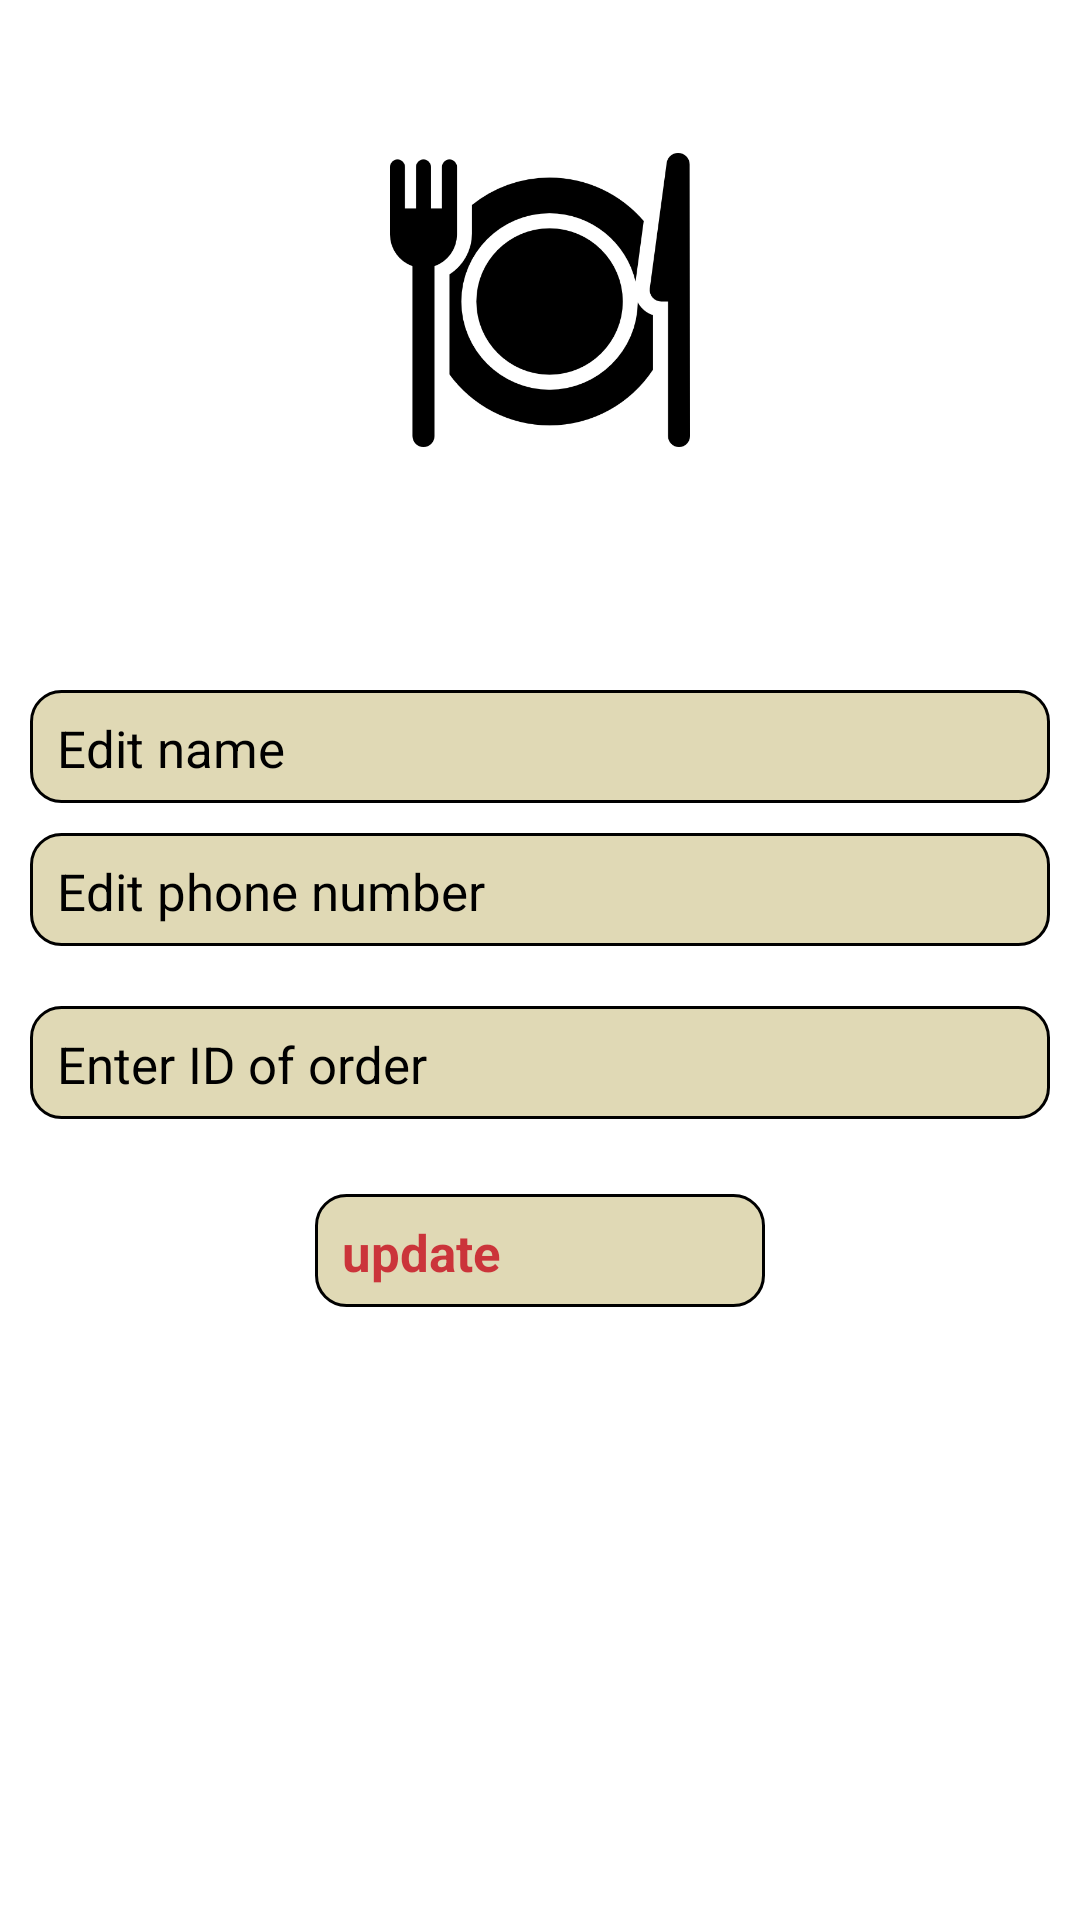

Where to tap for icons on this 1080*1920 app screen, as (x=x, y=y):
plate: (x=540, y=300)
